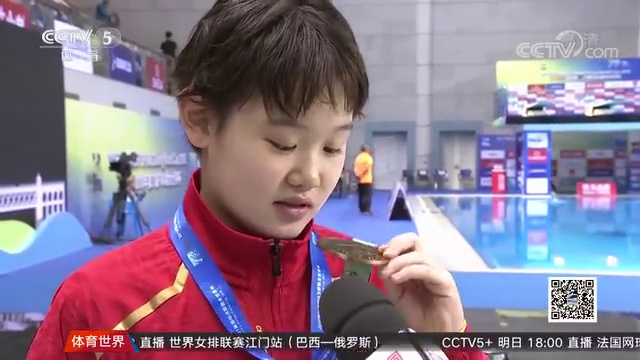face: (221, 85, 346, 233)
